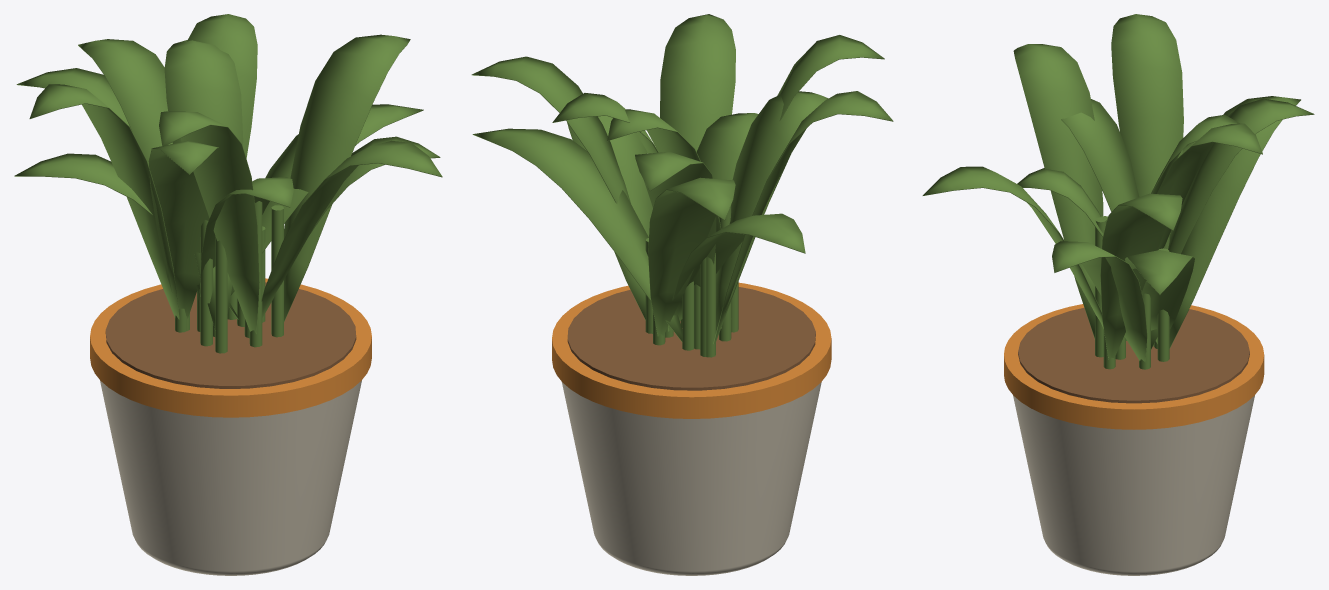
The model's file is interior-planter.glb.
The picture shows the model from 3 angles, left to right: view 1: azimuth 30°, elevation 25°; view 2: azimuth 150°, elevation 25°; view 3: azimuth 270°, elevation 25°; orthographic projection. The views are drawn at different scales.
Visible parts, largest first — view 1: interior-planter / 14 • olive leaf, interior-planter / 01 • warm porcelain paint, interior-planter / 15 • interior timber, interior-planter / 03 • ochre enamel; view 2: interior-planter / 14 • olive leaf, interior-planter / 01 • warm porcelain paint, interior-planter / 15 • interior timber, interior-planter / 03 • ochre enamel; view 3: interior-planter / 14 • olive leaf, interior-planter / 01 • warm porcelain paint, interior-planter / 15 • interior timber, interior-planter / 03 • ochre enamel.
Boxes of the visible parts, x1,y1,x2,y2 form: interior-planter / 14 • olive leaf: [14, 14, 442, 353]; interior-planter / 01 • warm porcelain paint: [100, 380, 361, 575]; interior-planter / 15 • interior timber: [105, 282, 356, 388]; interior-planter / 03 • ochre enamel: [90, 278, 371, 417]; interior-planter / 14 • olive leaf: [471, 14, 893, 357]; interior-planter / 01 • warm porcelain paint: [562, 382, 821, 575]; interior-planter / 15 • interior timber: [567, 287, 815, 390]; interior-planter / 03 • ochre enamel: [552, 282, 831, 418]; interior-planter / 14 • olive leaf: [922, 14, 1314, 369]; interior-planter / 01 • warm porcelain paint: [1013, 395, 1254, 575]; interior-planter / 15 • interior timber: [1018, 308, 1249, 403]; interior-planter / 03 • ochre enamel: [1004, 304, 1264, 429].
Bounding box in the file's own units: 0.5836 × 0.6635 × 0.5242.
